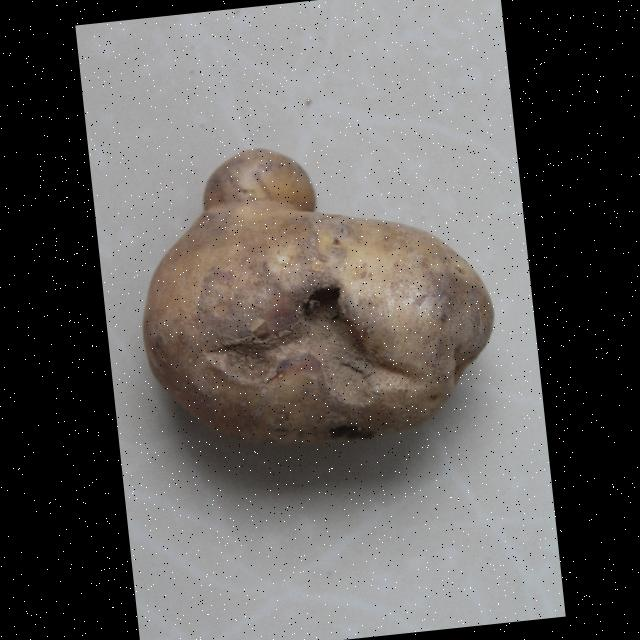Diseased-fungal potato: (131, 172, 523, 522)
